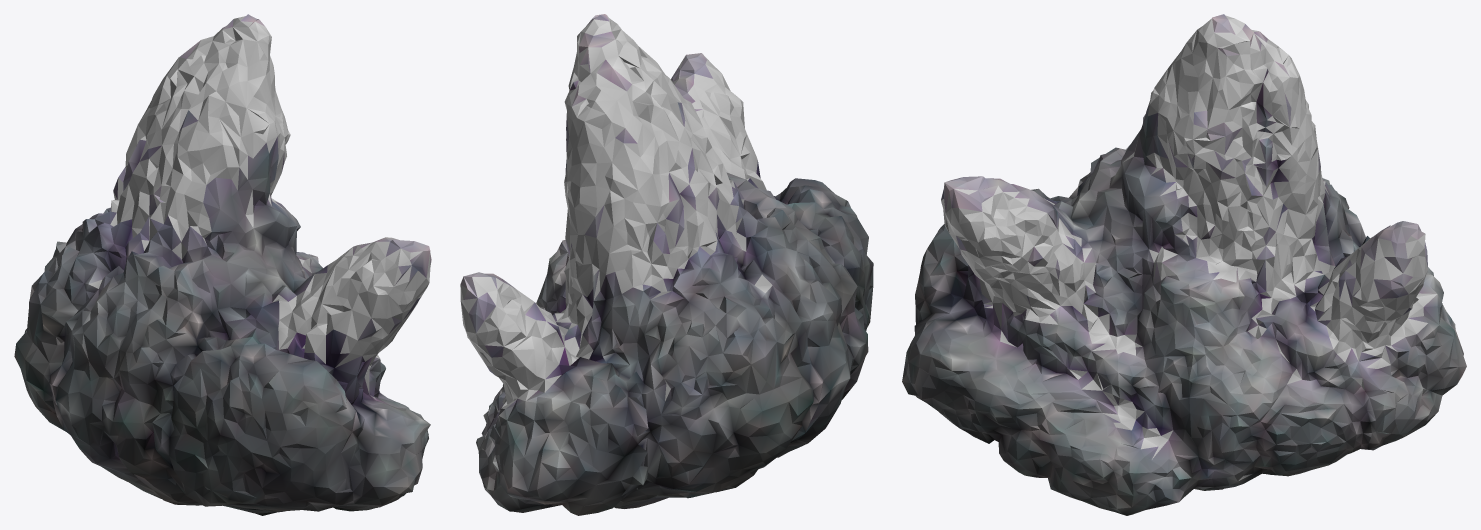
The model's file is cristal-fenda-rank125.glb.
The picture shows the model from 3 angles, left to right: view 1: azimuth 30°, elevation 25°; view 2: azimuth 150°, elevation 25°; view 3: azimuth 270°, elevation 25°; orthographic projection. The views are drawn at different scales.
Visible parts, largest first — view 1: stone, mineral; view 2: stone, mineral; view 3: stone, mineral.
Part boxes in pixels (x1,y1,x2,y2): stone: (14, 14, 431, 515); mineral: (88, 16, 431, 399); stone: (460, 14, 873, 515); mineral: (460, 15, 772, 412); stone: (902, 14, 1466, 515); mineral: (941, 15, 1436, 459).
Size of the model in its own units: 0.6737 by 0.9372 by 1.04.
